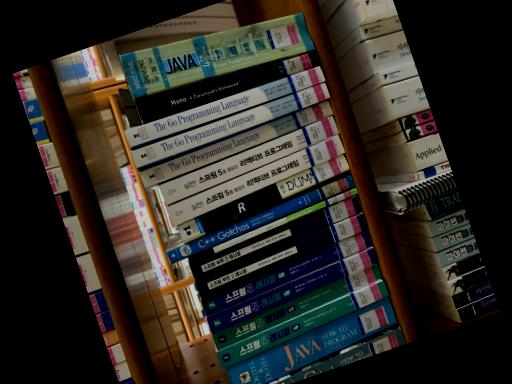book-spine: (129, 80, 330, 166), (139, 98, 333, 186), (123, 64, 324, 147), (166, 174, 354, 262), (165, 134, 344, 225), (158, 114, 338, 204), (119, 12, 314, 95), (216, 279, 389, 367), (189, 194, 363, 281), (225, 297, 397, 384), (200, 229, 372, 316), (196, 211, 368, 298), (206, 246, 377, 333), (177, 153, 348, 240), (212, 263, 382, 349), (137, 49, 319, 120), (212, 186, 357, 251), (271, 326, 405, 384)
